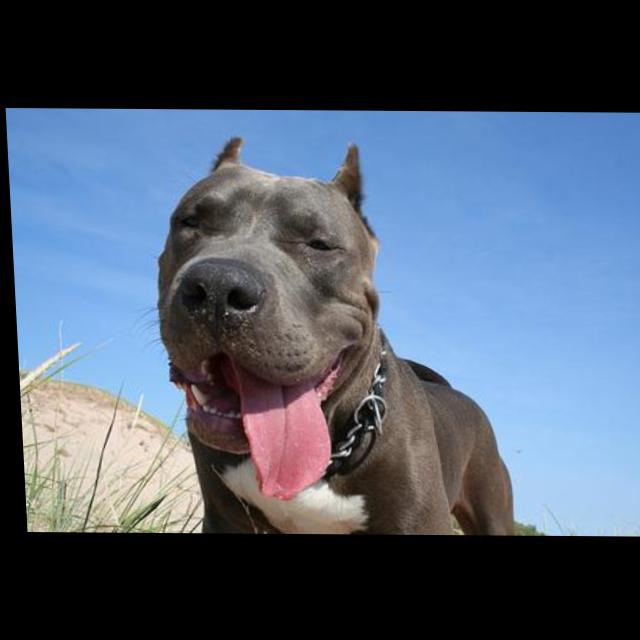amstaff: (137, 135, 516, 536)
